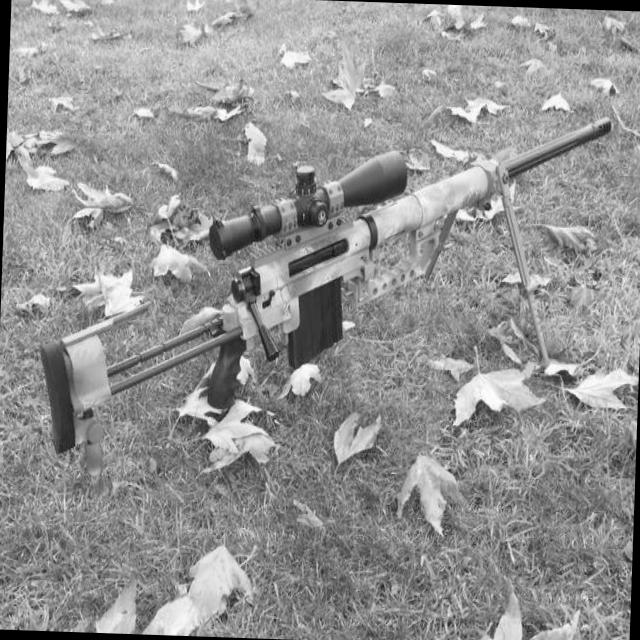gun: (34, 95, 612, 514)
